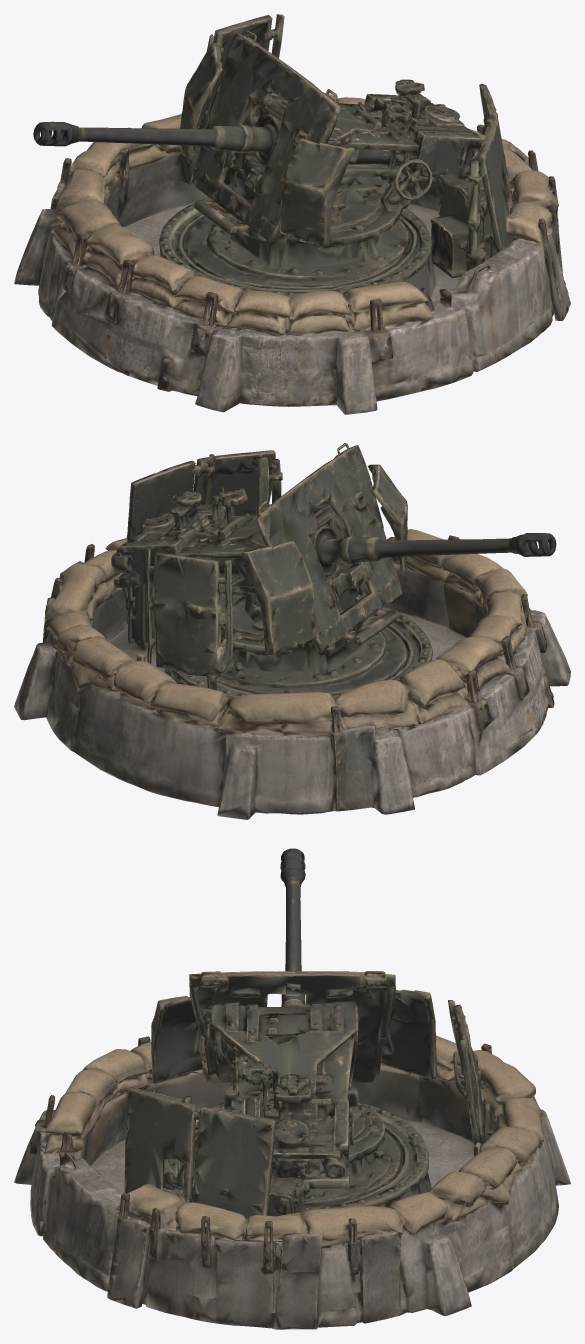
The picture shows the model from 3 angles, top to bottom: view 1: azimuth 30°, elevation 25°; view 2: azimuth 150°, elevation 25°; view 3: azimuth 270°, elevation 25°; orthographic projection. The views are drawn at different scales.
Parts seen in each view (by area): view 1: aa; view 2: aa; view 3: aa.
Boxes of the visible parts, bbox=[...] form: aa: bbox=[14, 14, 570, 414]; aa: bbox=[14, 443, 570, 819]; aa: bbox=[14, 848, 570, 1329].
Bounding box in the file's own units: 1.9 × 0.8618 × 1.82.
1 material, 1 textured.
